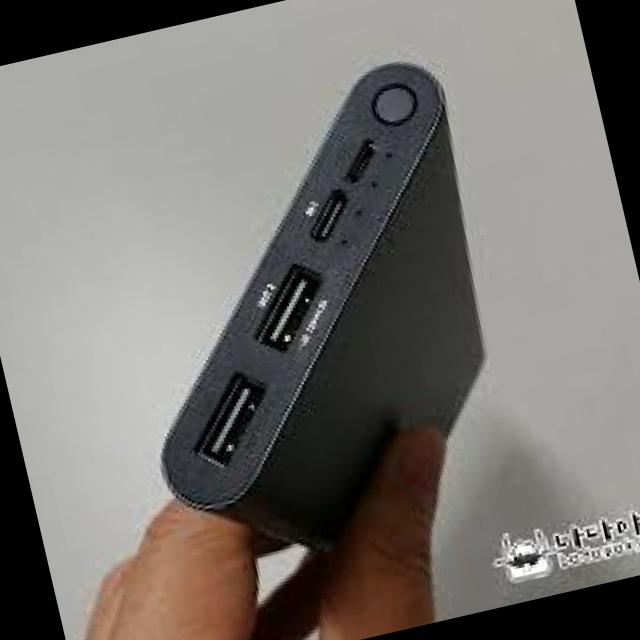portable-charger: (77, 45, 524, 582)
